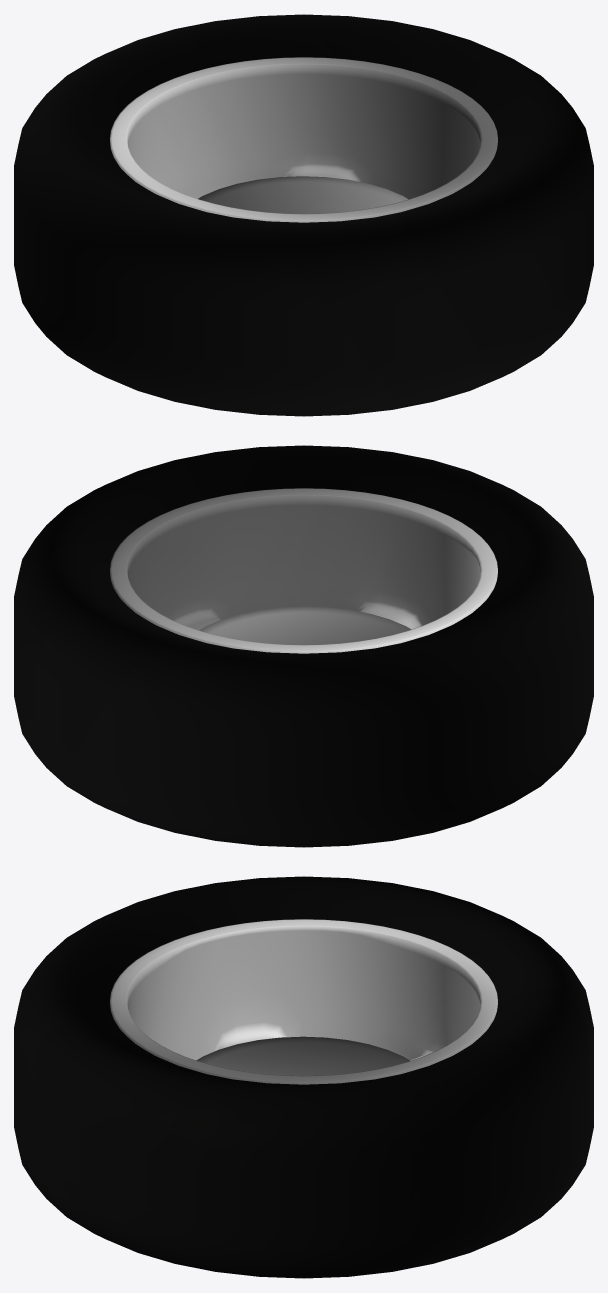
File: wheel.obj
3 renders of one model, top to bottom at view 1: azimuth 30°, elevation 25°; view 2: azimuth 150°, elevation 25°; view 3: azimuth 270°, elevation 25°, orthographic.
Visible parts, largest first — view 1: car_test; view 2: car_test; view 3: car_test.
Boxes of the visible parts, left/top/right/bottom form: car_test: left=14, top=14, right=593, bottom=416; car_test: left=14, top=445, right=593, bottom=847; car_test: left=14, top=876, right=593, bottom=1278.
Size of the model in its own units: 57.8 by 20.43 by 57.8.
1 material, 1 textured.
